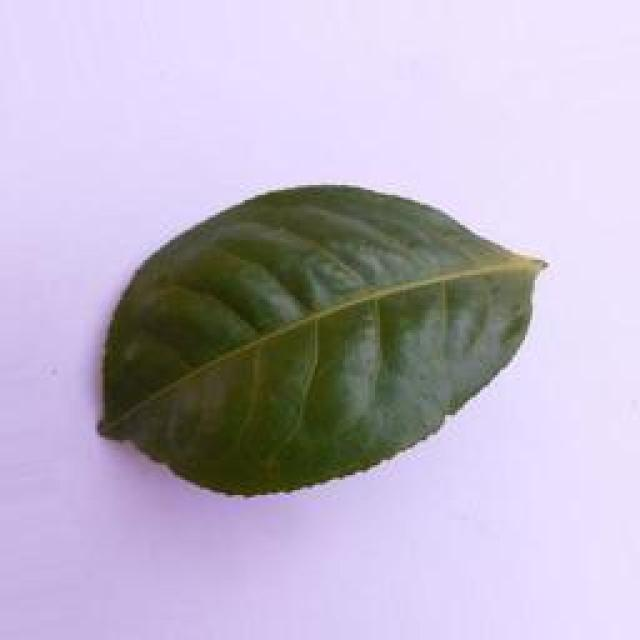Healthy: (76, 174, 553, 504)
